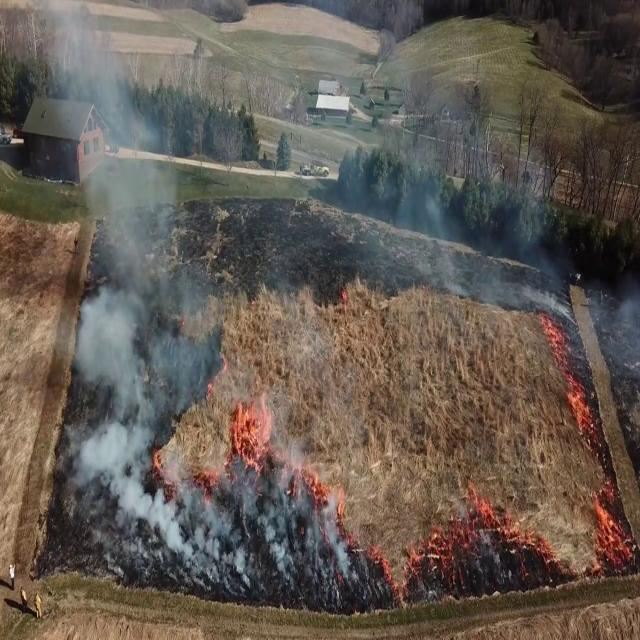Fire: (228, 384, 279, 474)
Smoke: (43, 3, 209, 545)
